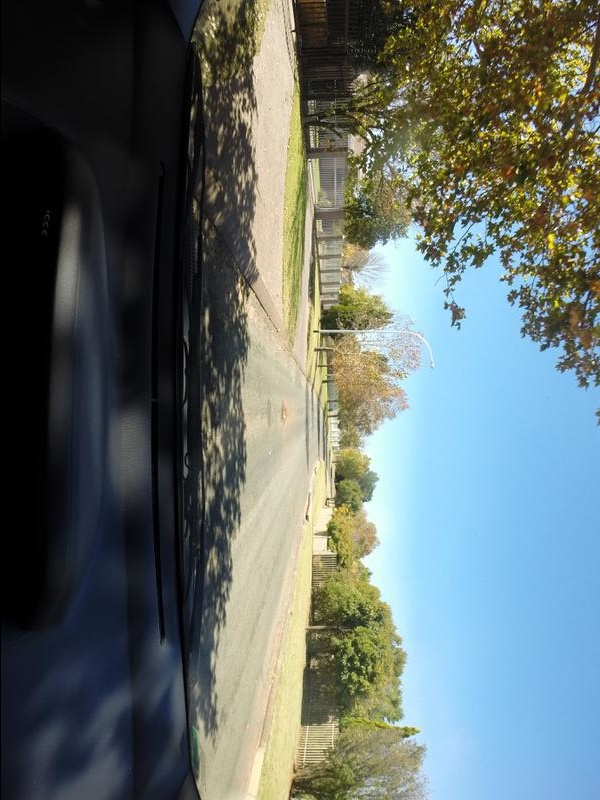pothole: (271, 398, 294, 434)
